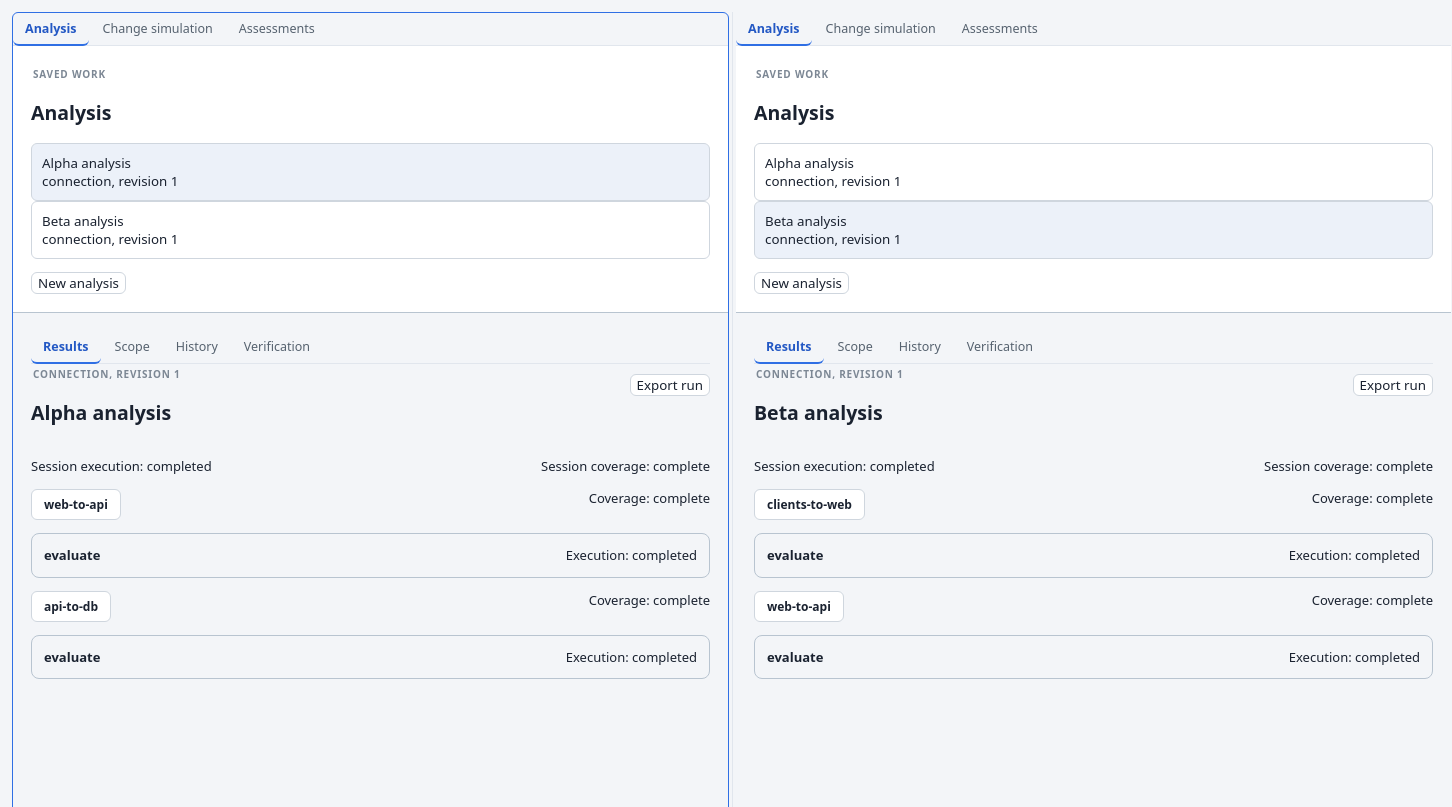
Two Analysis panes › keeps a New analysis draft in its own pane
The width and height of the screenshot is (1452, 807).
Expected: the heading "Beta analysis" is shown, [754,400,883,426]
Step 1. Click the 1st button "New analysis" → point(78, 284), box [31,272,126,294]
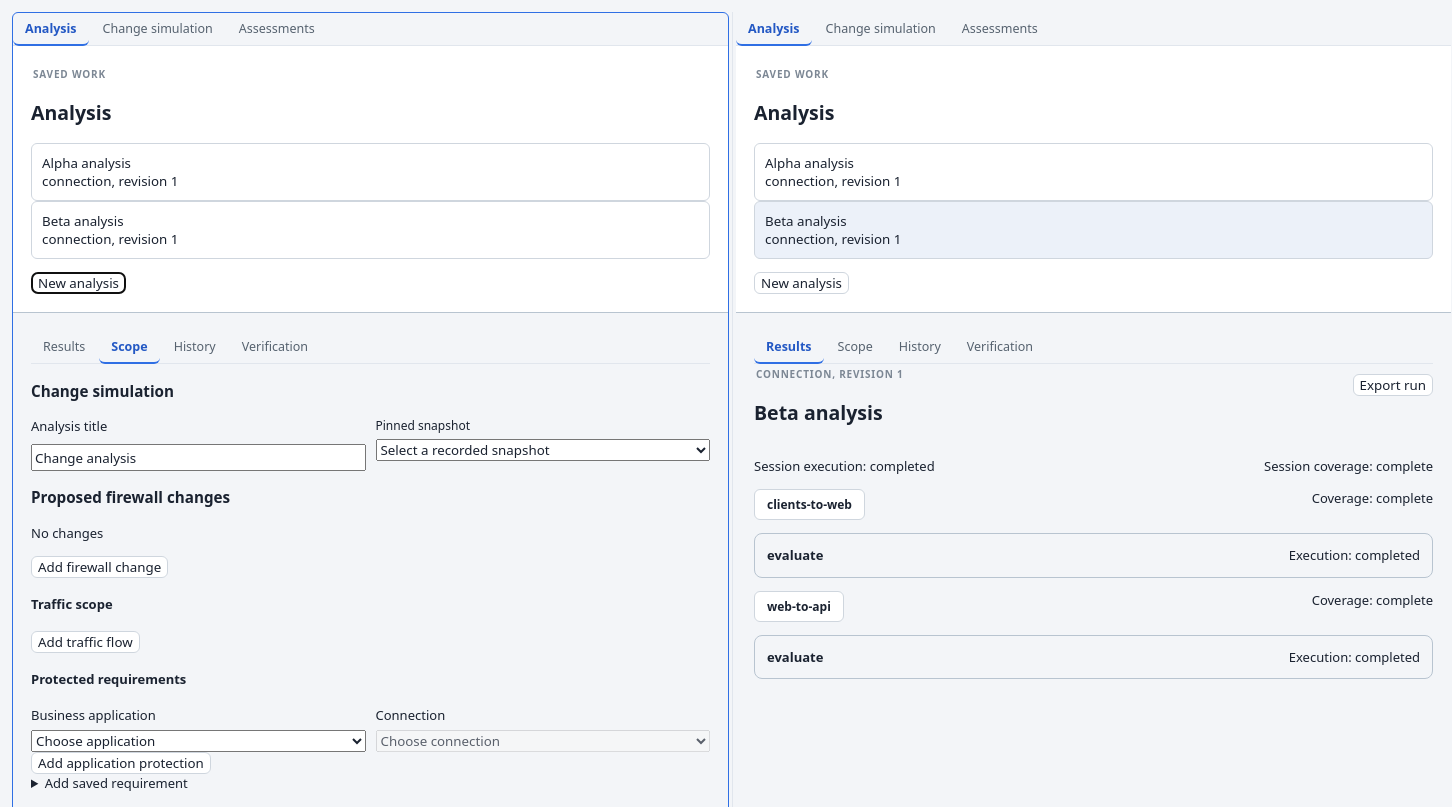
Step 2. Replace the text in the field labelled "Analysis title" with "Pane one draft" → point(198, 458), box [31,444,366,471]
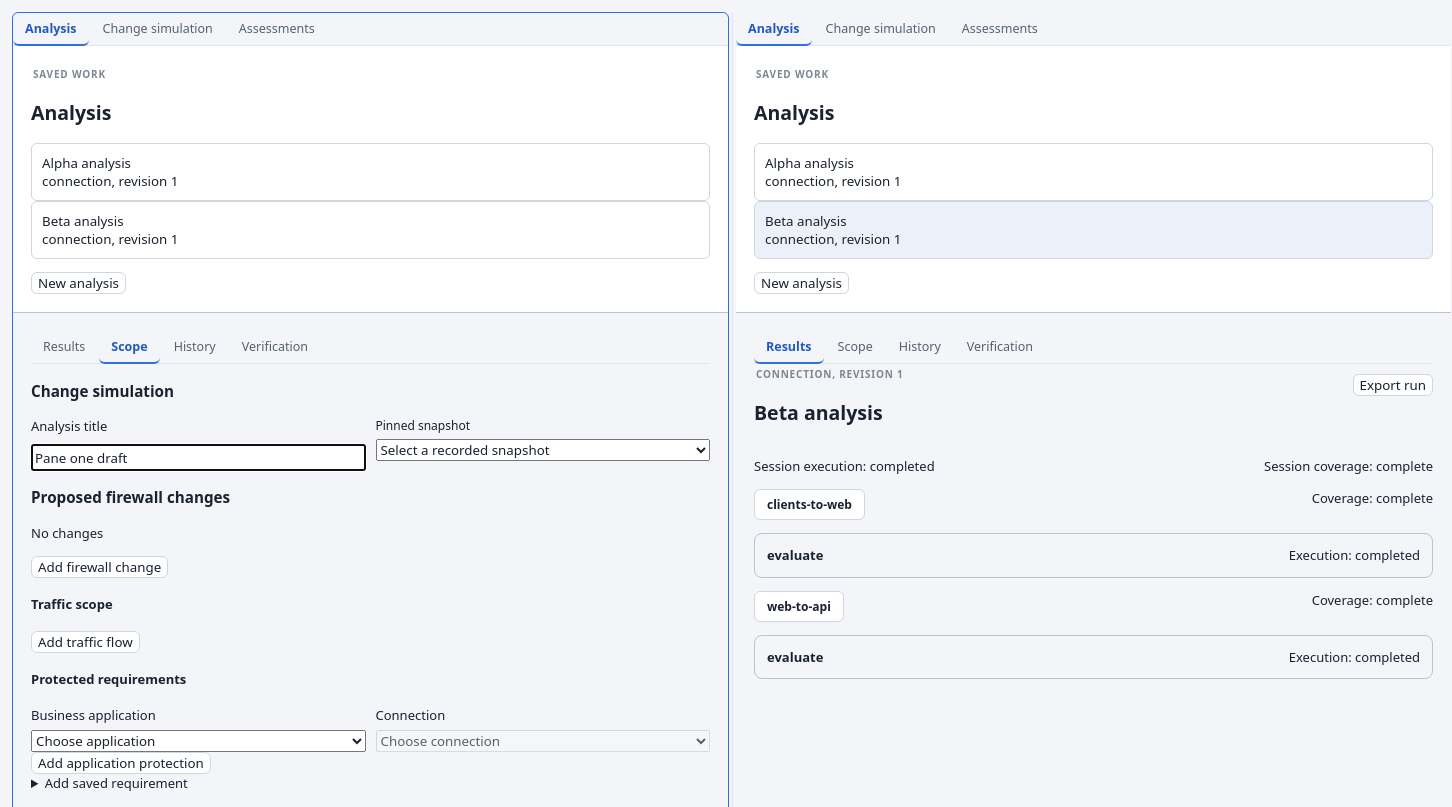
Expected: the heading "Beta analysis" is shown, [754,400,883,426]
Step 3. Click the 2nd button "New analysis" → point(802, 284), box [754,272,849,294]
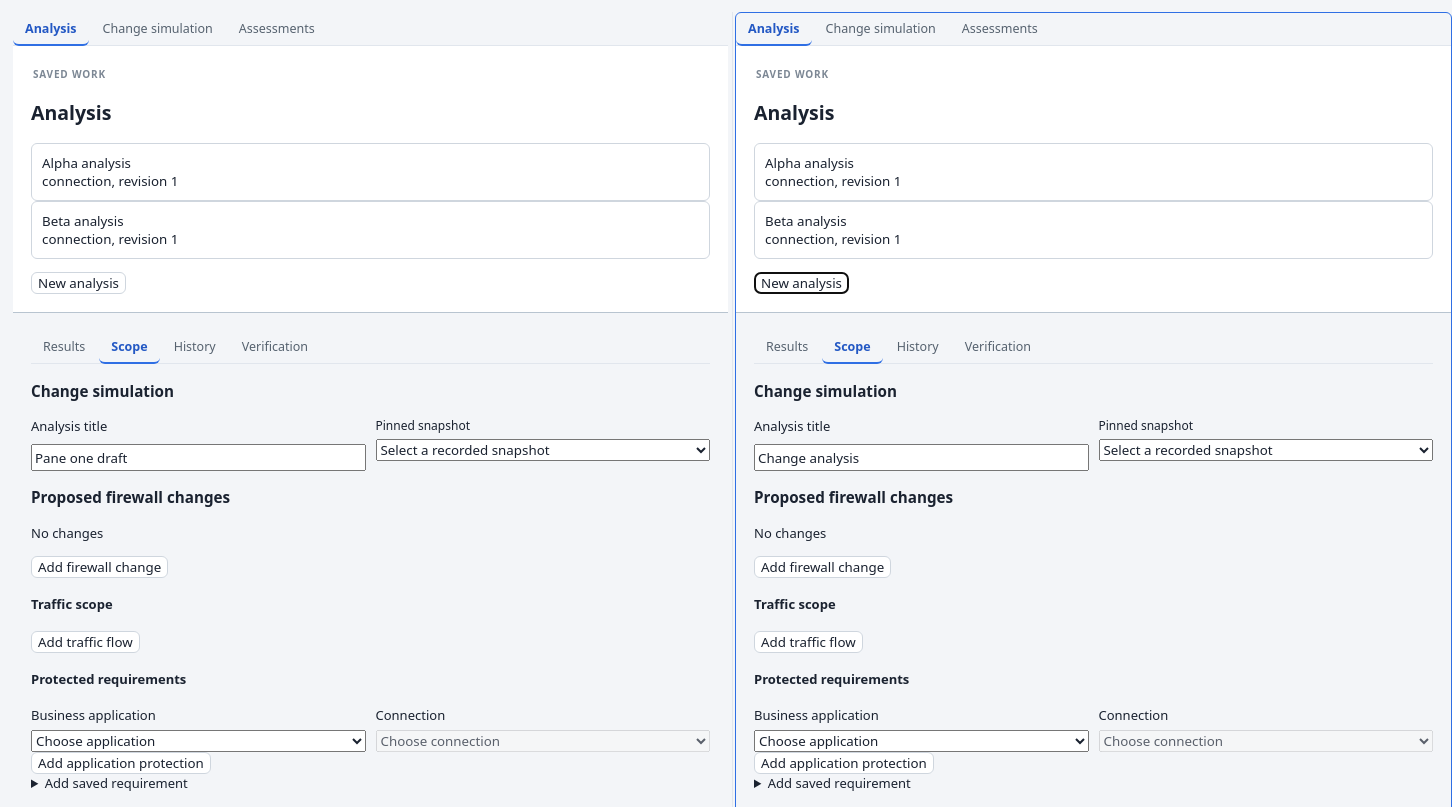
Now the 2nd field labelled "Analysis title" holds "Change analysis", box [754,444,1088,471]
